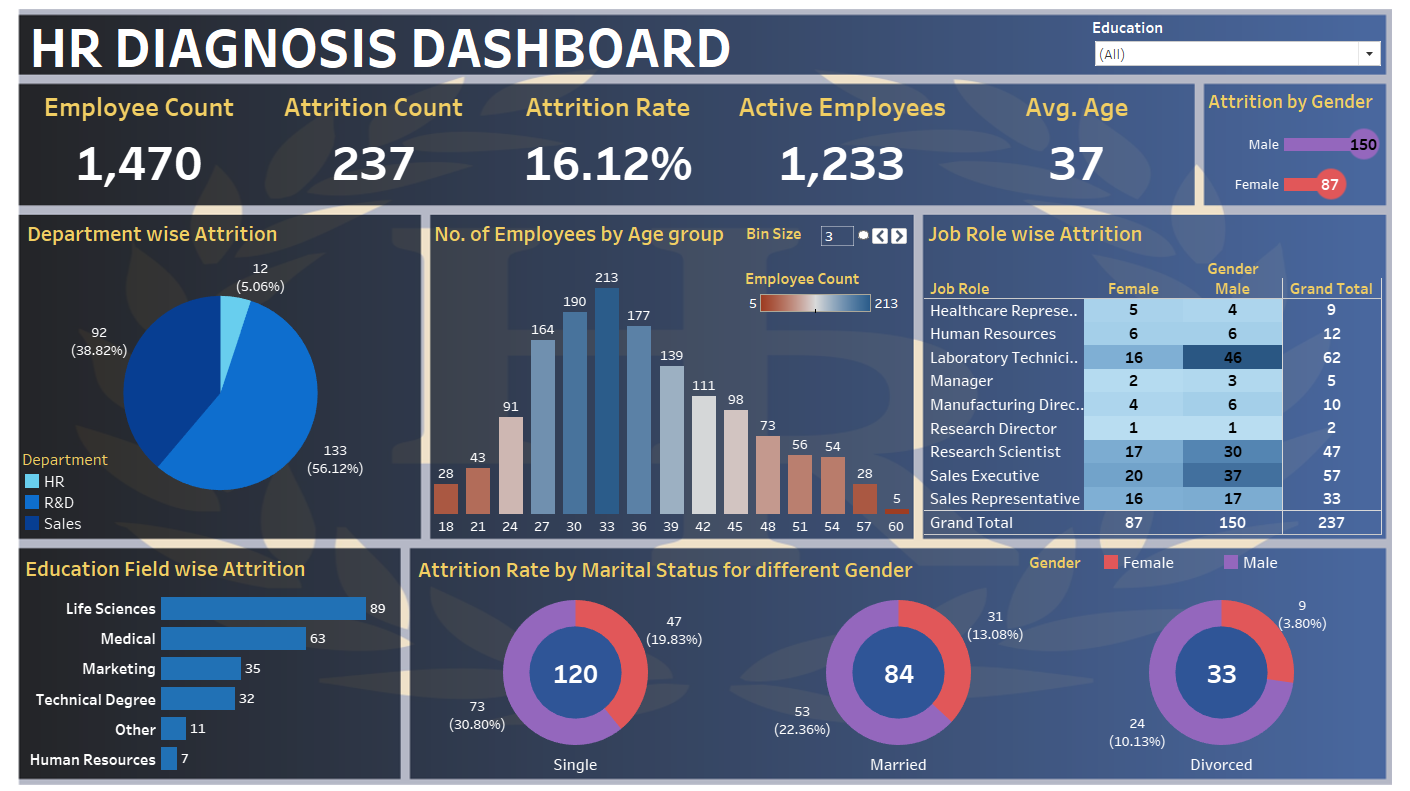

The page's visual inventory and layout, read from the dashboard file:
{"tool":"tableau","page":{"name":"HR Analytics Dashboard","canvas":[1450,800],"ordinal":0},"visuals":[{"type":"image","param":"Image/HR background.pptx.png","box":[8,8,1434,784]},{"type":"text","box":[48,20,736,56]},{"type":"filter","title":"Department wise Attrition","param":"[federated.12hp4e20moidct11lpfa9116qe6m].[none:Education:nk]","box":[1114,20,292,52]},{"type":"worksheet","title":"KPI","mark":"Automatic","box":[44,86,1172,115]},{"type":"worksheet","title":"Attrition by Gender","mark":"Automatic","rows":["Gender"],"cols":["Calculation_2284450972141957120","Calculation_2284450972141957120"],"box":[1226,87,180,120]},{"type":"worksheet","title":"Department wise Attrition","mark":"Pie","box":[45,218,395,313]},{"type":"worksheet","title":"No. of Employees by Age group","mark":"Automatic","rows":["Employee Count"],"cols":["Age (bin)"],"box":[452,218,483,321]},{"type":"worksheet","title":"Job Role wise Attrition","mark":"Square","rows":["Job Role"],"cols":["Gender"],"box":[946,218,458,320]},{"type":"parameter","param":"[Parameters].[Parameter 1]","box":[768,226,164,40]},{"type":"legend","title":"No. of Employees by Age group","param":"[federated.12hp4e20moidct11lpfa9116qe6m].[sum:Employee Count:qk]","box":[767,271,158,68]},{"type":"legend","title":"Department wise Attrition","param":"[federated.12hp4e20moidct11lpfa9116qe6m].[none:Department:nk]","box":[44,452,140,85]},{"type":"worksheet","title":"Education Field wise Attrition","mark":"Automatic","rows":["Education Field"],"cols":["Calculation_2284450972141957120"],"box":[43,553,379,224]},{"type":"worksheet","title":"Attrition Rate by Marital Status for different Gender","mark":"Pie","rows":["Calculation_2284450972195598341","Calculation_2284450972195598341"],"cols":["Marital Status"],"box":[436,554,970,225]},{"type":"legend","title":"Attrition Rate by Marital Status for different Gender","param":"[federated.12hp4e20moidct11lpfa9116qe6m].[none:Gender:nk]","box":[1051,555,336,31]}]}

Visuals, with their boxes in screenshot pixels (x1, y1, x2, y2), scaled from the page's 1450x800 canvas onto the 1410x791 screenshot:
image: l=8, t=8, r=1402, b=783
text: l=47, t=20, r=762, b=75
"Department wise Attrition" filter: l=1083, t=20, r=1367, b=71
"KPI" worksheet: l=43, t=85, r=1182, b=199
"Attrition by Gender" worksheet: l=1192, t=86, r=1367, b=205
"Department wise Attrition" worksheet (Pie marks): l=44, t=216, r=428, b=525
"No. of Employees by Age group" worksheet: l=440, t=216, r=909, b=533
"Job Role wise Attrition" worksheet (Square marks): l=920, t=216, r=1365, b=532
parameter: l=747, t=223, r=906, b=263
"No. of Employees by Age group" legend: l=746, t=268, r=899, b=335
"Department wise Attrition" legend: l=43, t=447, r=179, b=531
"Education Field wise Attrition" worksheet: l=42, t=547, r=410, b=768
"Attrition Rate by Marital Status for different Gender" worksheet (Pie marks): l=424, t=548, r=1367, b=770
"Attrition Rate by Marital Status for different Gender" legend: l=1022, t=549, r=1349, b=579
